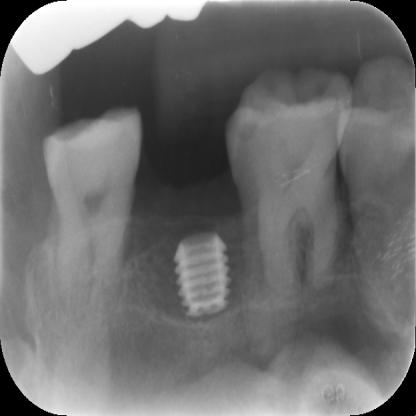Bicon: (168, 227, 232, 319)
